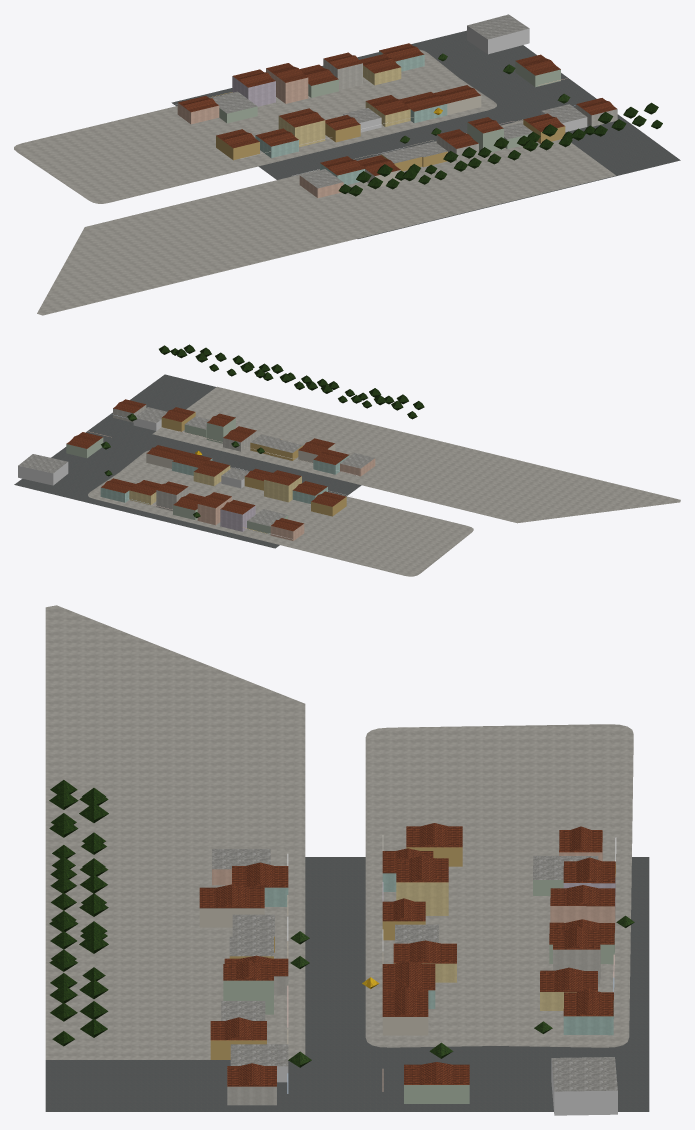
File: cidade_S01_00_lod.gltf
The picture shows the model from 3 angles, top to bottom: view 1: azimuth 30°, elevation 25°; view 2: azimuth 150°, elevation 25°; view 3: azimuth 270°, elevation 25°; orthographic projection. The views are drawn at different scales.
Visible parts, largest first — view 1: S01_00_Chao_LOD2, S01_00_Edificios_LOD1, S01_00_Silhueta_LOD2, S01_00_Vegetacao_LOD2; view 2: S01_00_Chao_LOD2, S01_00_Edificios_LOD1, S01_00_Silhueta_LOD2, S01_00_Vegetacao_LOD2; view 3: S01_00_Chao_LOD2, S01_00_Edificios_LOD1, S01_00_Silhueta_LOD2, S01_00_Vegetacao_LOD2.
Part boxes in pixels (x1=…): S01_00_Chao_LOD2: x1=14, y1=30, x2=680, y2=315; S01_00_Edificios_LOD1: x1=171, y1=14, x2=617, y2=197; S01_00_Silhueta_LOD2: x1=177, y1=43, x2=617, y2=186; S01_00_Vegetacao_LOD2: x1=338, y1=53, x2=662, y2=196; S01_00_Chao_LOD2: x1=14, y1=374, x2=680, y2=576; S01_00_Edificios_LOD1: x1=18, y1=401, x2=375, y2=540; S01_00_Silhueta_LOD2: x1=66, y1=399, x2=349, y2=540; S01_00_Vegetacao_LOD2: x1=101, y1=344, x2=424, y2=517; S01_00_Chao_LOD2: x1=45, y1=605, x2=649, y2=1111; S01_00_Edificios_LOD1: x1=199, y1=823, x2=617, y2=1115; S01_00_Silhueta_LOD2: x1=199, y1=826, x2=615, y2=1105; S01_00_Vegetacao_LOD2: x1=49, y1=780, x2=634, y2=1067.
Bounding box in the file's own units: 200 × 15.98 × 100.
Materials: 19 (19 with a texture image).
